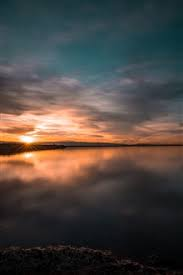sea: (4, 150, 183, 274)
sky: (1, 2, 183, 142)
